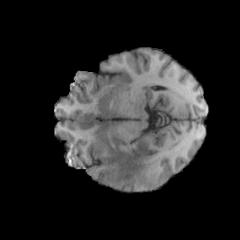glioma: (90, 143, 161, 188)
